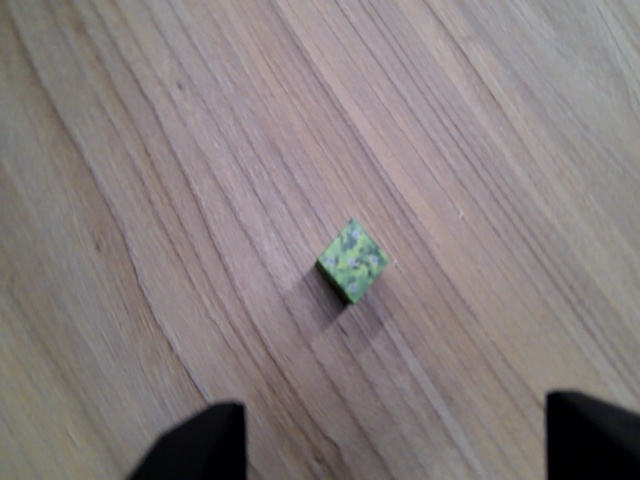grass: (318, 218, 391, 306)
